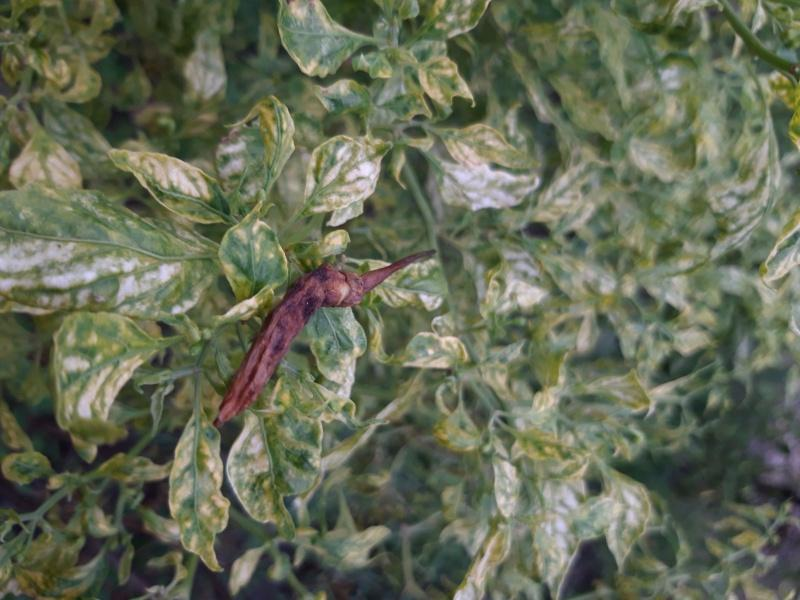antraknosa: (210, 264, 366, 431)
